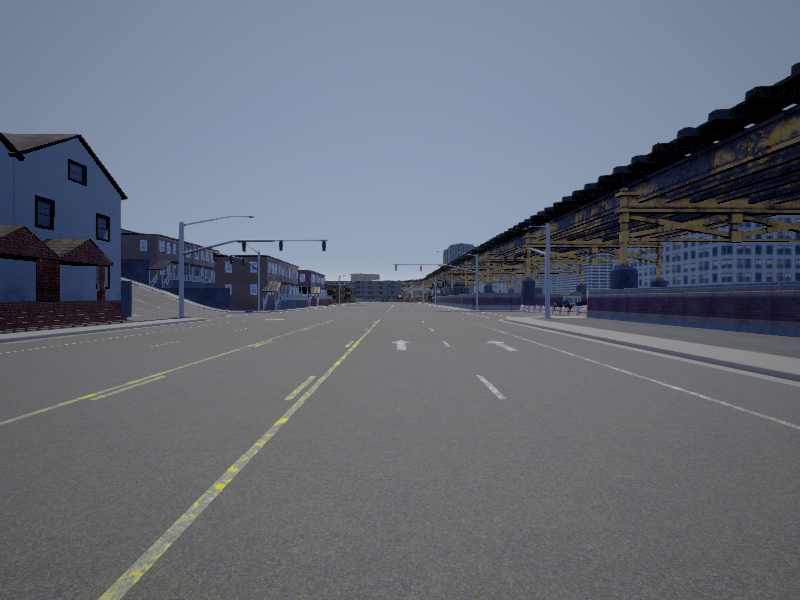Attacker: (394, 293, 406, 301)
